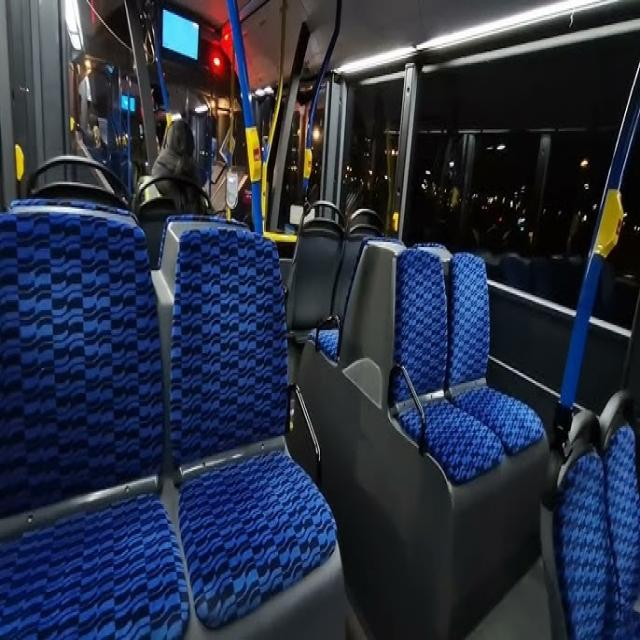empty-seat-frontal: (0, 202, 187, 638), (174, 227, 340, 633), (390, 246, 504, 489)
